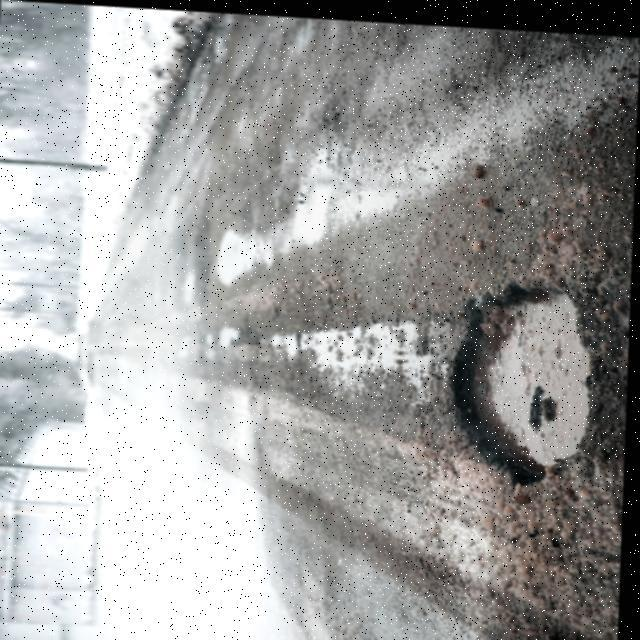pothole: (436, 268, 604, 482)
